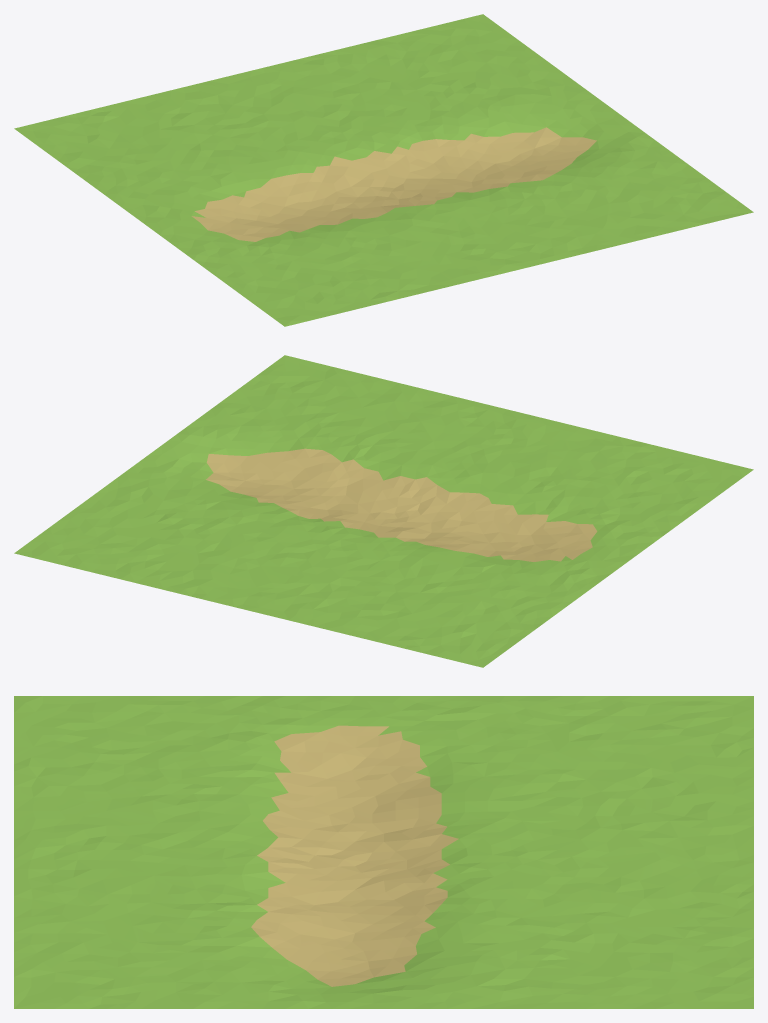
The model's file is terrain_l_d_04.glb.
3 views of the same model, one above another, from view 1: azimuth 30°, elevation 25°; view 2: azimuth 150°, elevation 25°; view 3: azimuth 270°, elevation 25° (orthographic). The views are drawn at different scales.
Parts seen in each view (by area): view 1: CPT_Terrain_L_d_04; view 2: CPT_Terrain_L_d_04; view 3: CPT_Terrain_L_d_04.
Boxes of the visible parts, x1,y1,x2,y2 form: CPT_Terrain_L_d_04: [14, 14, 753, 326]; CPT_Terrain_L_d_04: [14, 355, 753, 667]; CPT_Terrain_L_d_04: [14, 696, 753, 1008].
Bounding box in the file's own units: 100 × 2.17 × 100.
1 material, 1 textured.
